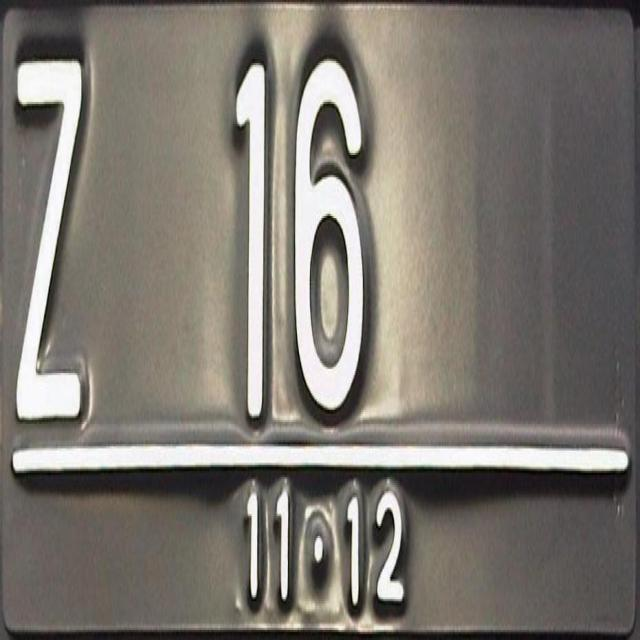1: (226, 46, 280, 430)
6: (285, 39, 375, 409)
Z: (10, 44, 94, 434)
